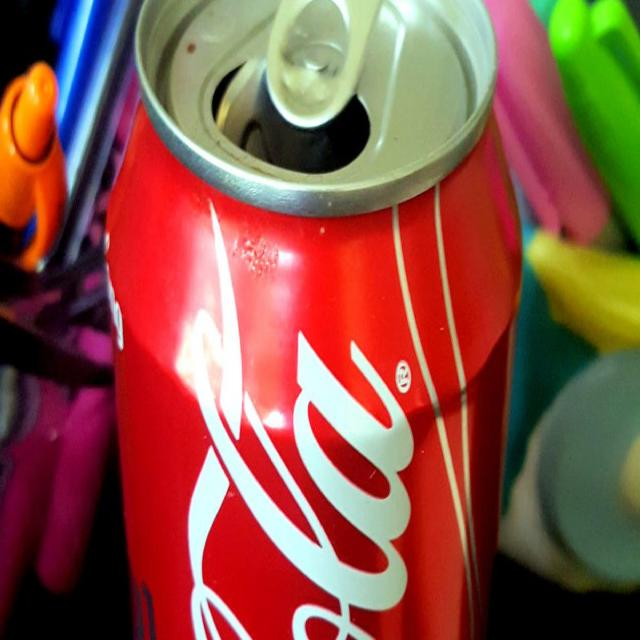non-organic waste: (103, 0, 526, 640)
